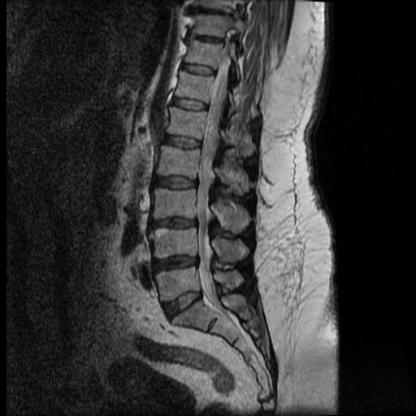Degenerative Disc Diseaserotation: (154, 252, 199, 272)
Disc Bulgerotation: (152, 213, 199, 234), (161, 293, 205, 315), (154, 253, 199, 273), (153, 173, 200, 192), (165, 135, 206, 152)
